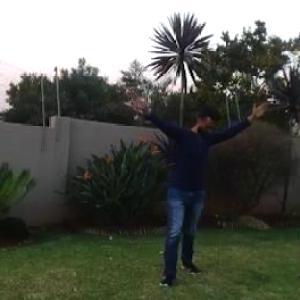takeoff: (127, 87, 267, 290)
